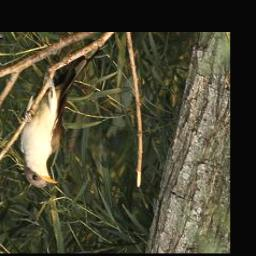Cuckoo: (17, 42, 102, 189)
